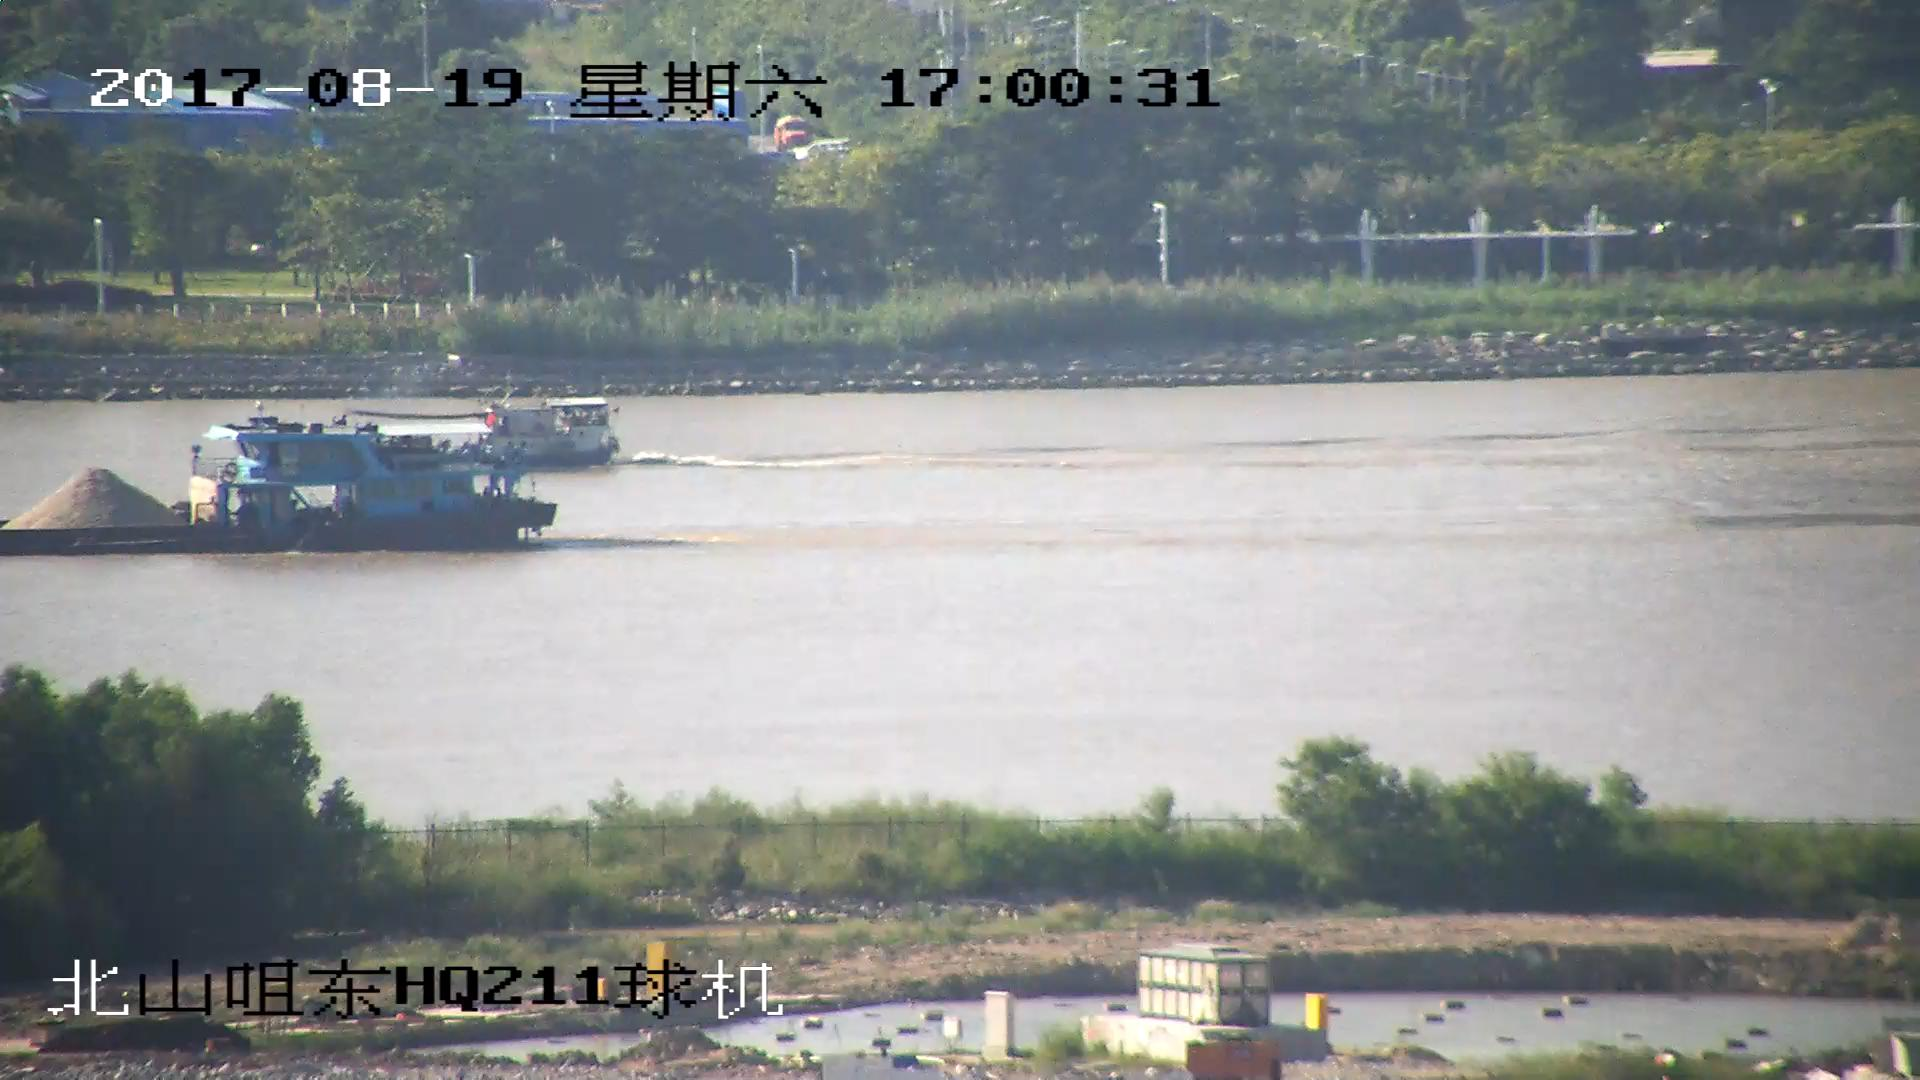fishing boat: (374, 400, 620, 476)
ore carrier: (1, 409, 558, 554)
